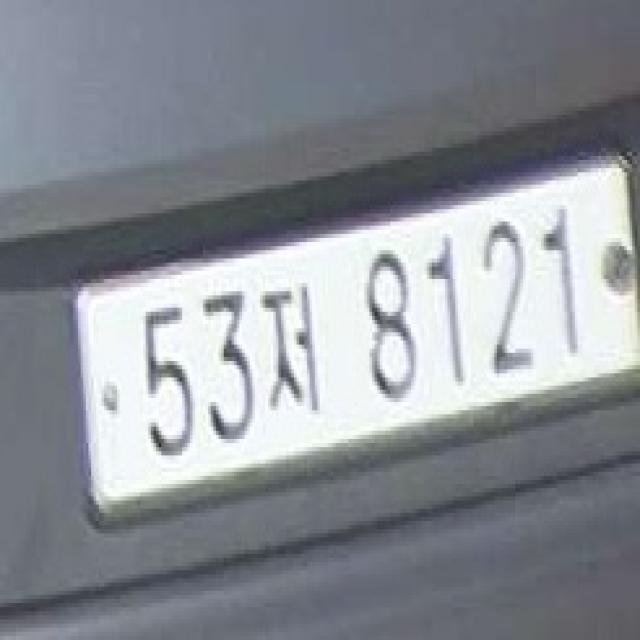1: (424, 209, 479, 398), (538, 197, 596, 365)
2: (468, 193, 536, 402)
3: (200, 271, 260, 459)
5: (136, 279, 206, 472)
8: (359, 230, 419, 398)
jeo: (258, 270, 328, 422)
license_plate: (73, 152, 635, 525)
